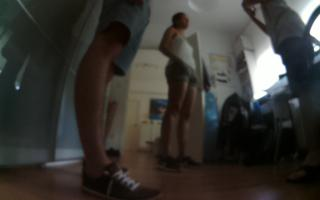person: (69, 1, 167, 200), (236, 1, 320, 185), (153, 9, 207, 174)
